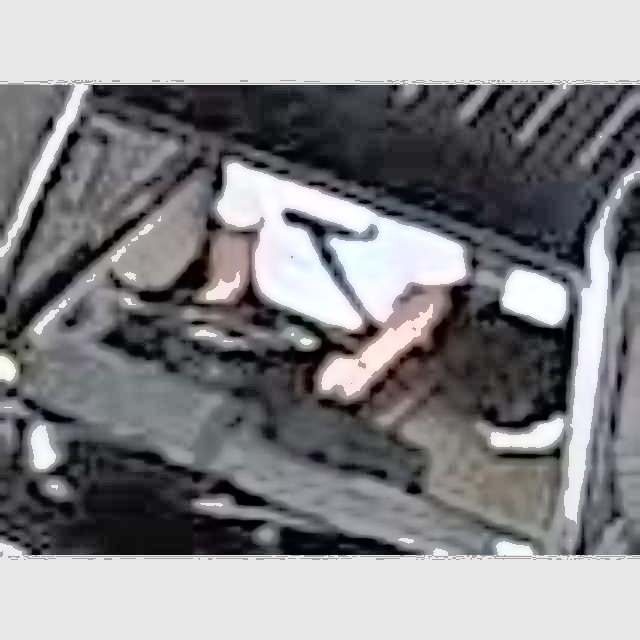pakai: (193, 163, 441, 405)
